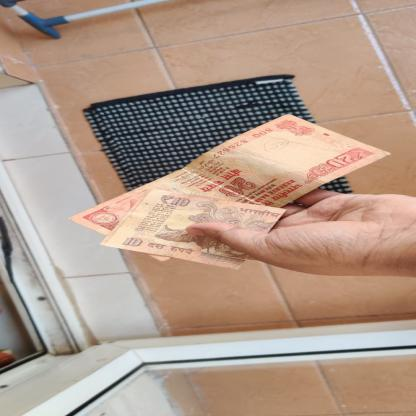Old10Back: (97, 188, 289, 271)
Old20Front: (67, 113, 392, 262)
